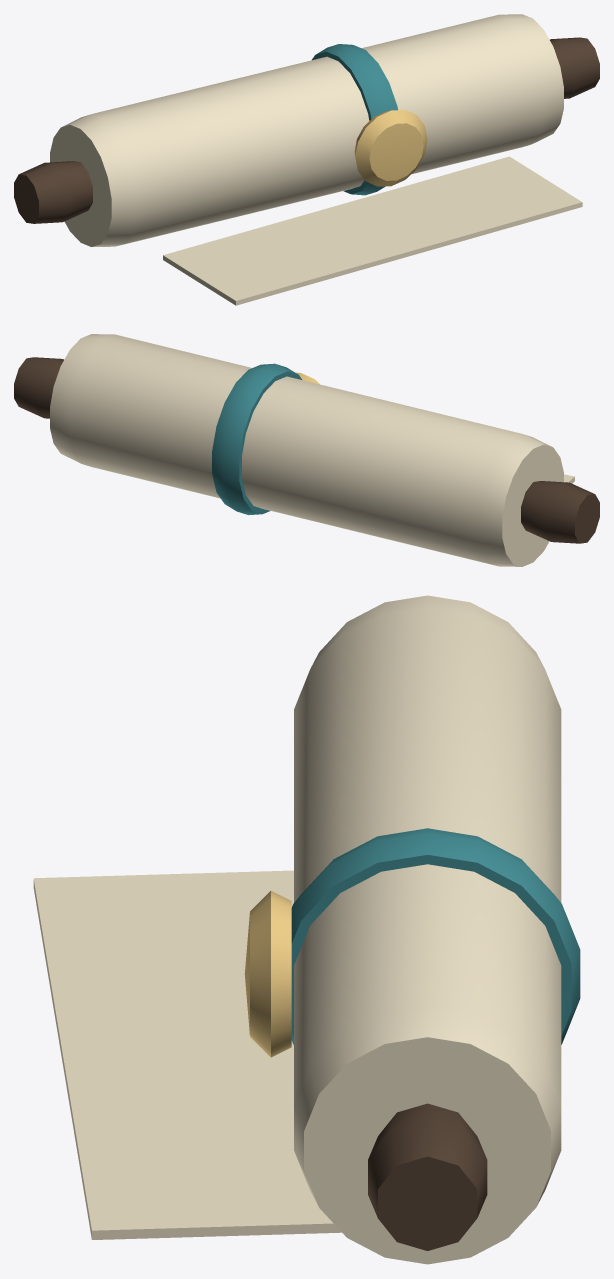
Rendered from recipe_champion_trinket.glb.
3 views of the same model, one above another, from view 1: azimuth 30°, elevation 25°; view 2: azimuth 150°, elevation 25°; view 3: azimuth 270°, elevation 25° (orthographic). The views are drawn at different scales.
Parts seen in each view (by area): view 1: recipe_champion_trinket; view 2: recipe_champion_trinket; view 3: recipe_champion_trinket.
Part boxes in pixels (x1,y1,x2,y2): recipe_champion_trinket: [14, 14, 599, 305]; recipe_champion_trinket: [14, 334, 599, 566]; recipe_champion_trinket: [33, 595, 580, 1264].
Size of the model in its own units: 0.248 by 0.0594 by 0.1046.
